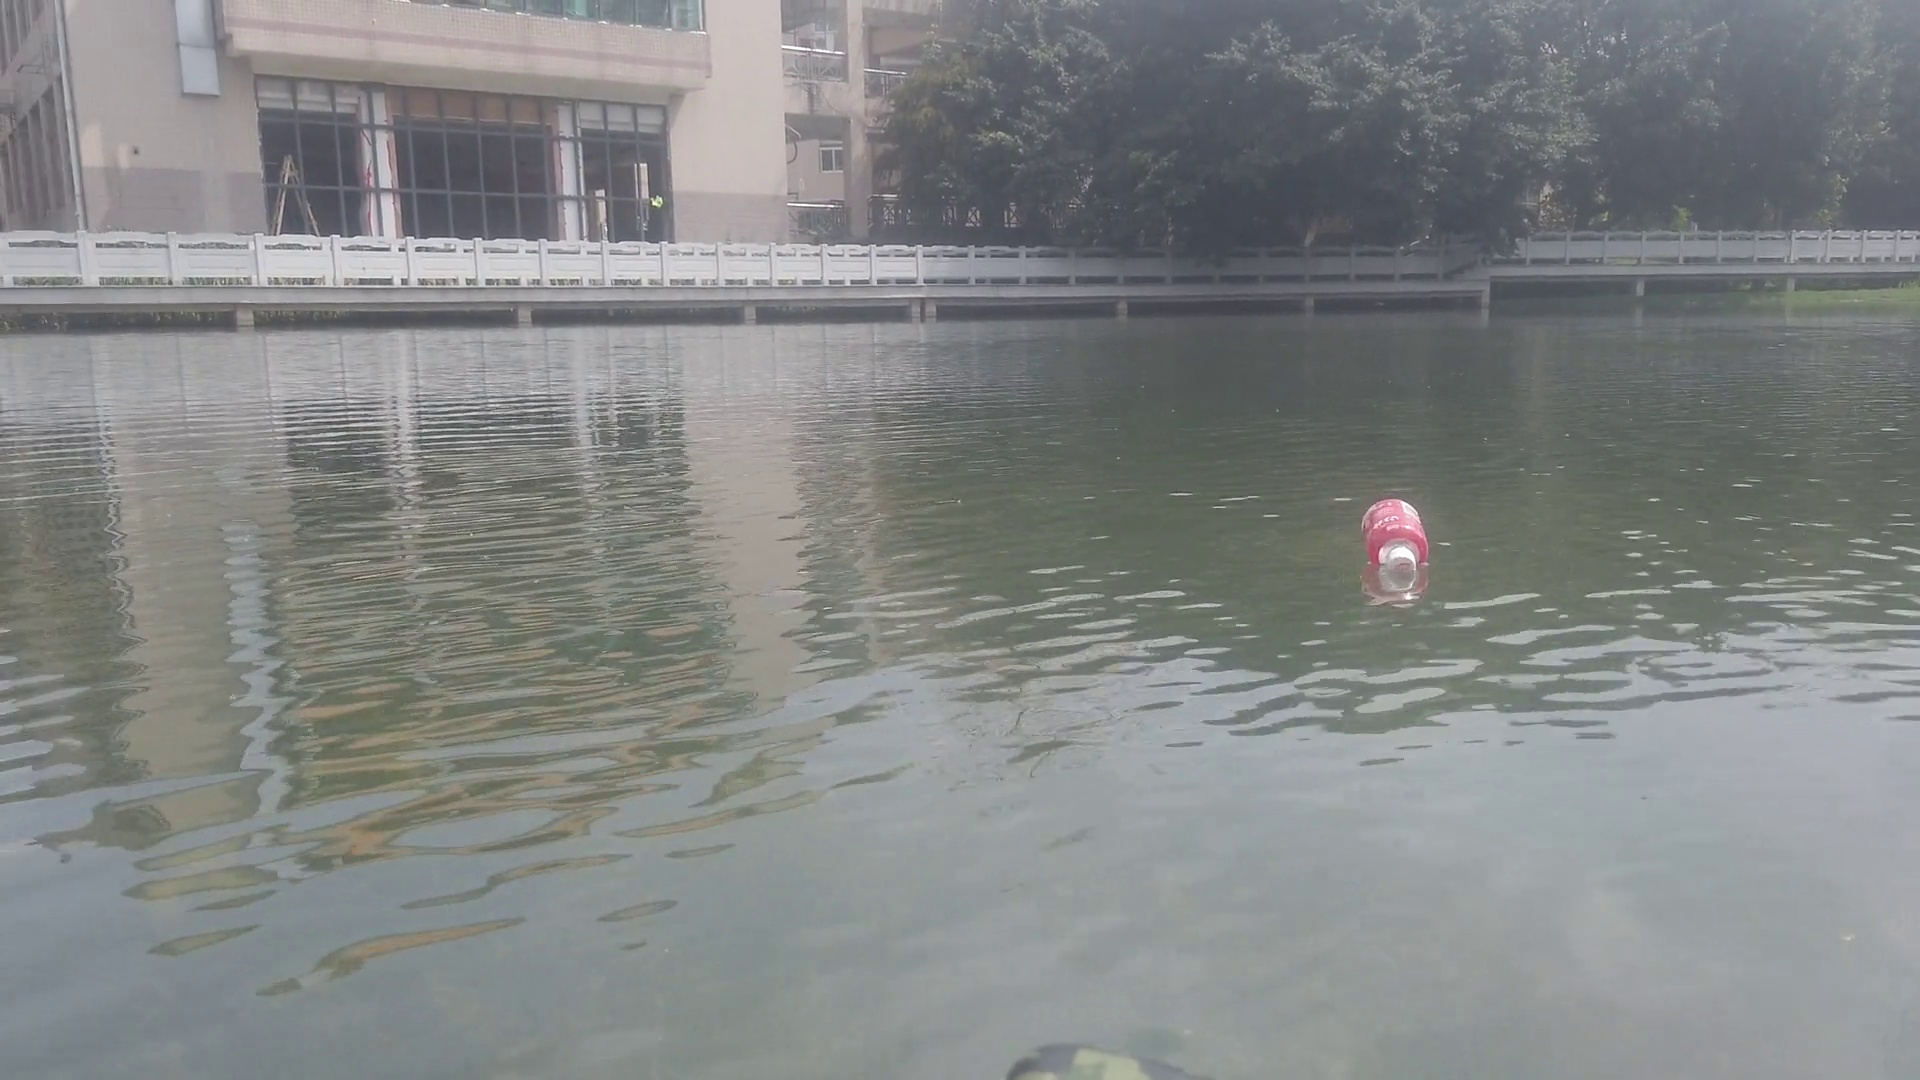bottle: (1364, 497, 1431, 574)
